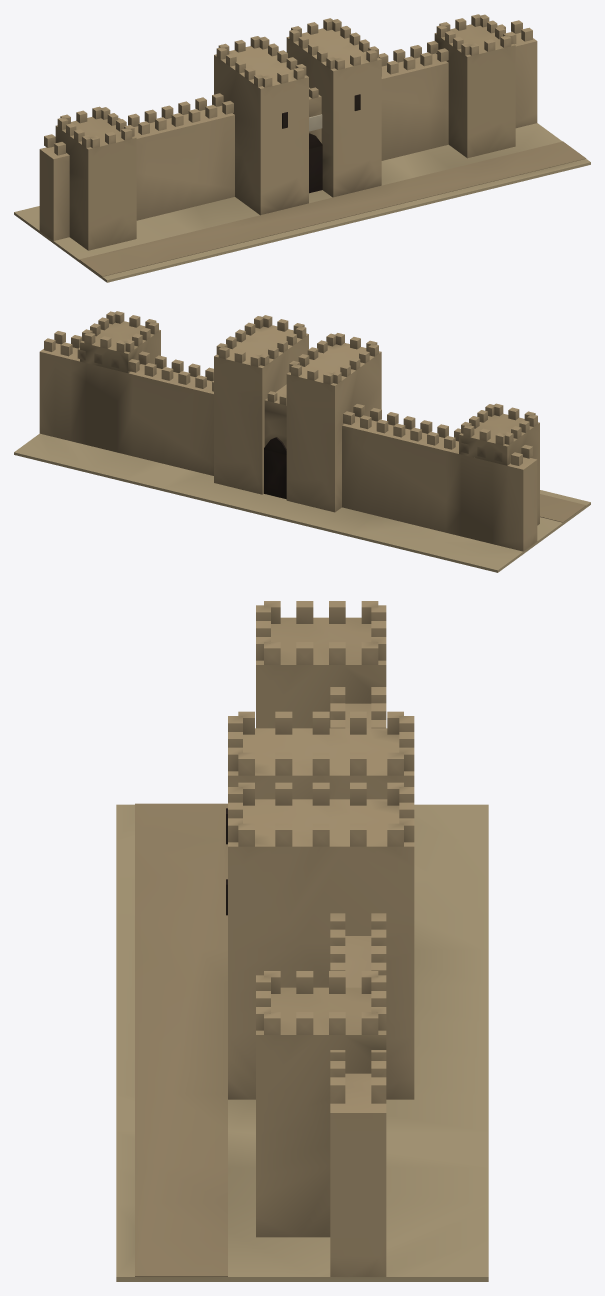
File: puerta-almodovar.glb
The picture shows the model from 3 angles, top to bottom: view 1: azimuth 30°, elevation 25°; view 2: azimuth 150°, elevation 25°; view 3: azimuth 270°, elevation 25°; orthographic projection. The views are drawn at different scales.
Visible parts, largest first — view 1: p0_wall, p1_towers; view 2: p0_wall, p1_towers; view 3: p0_wall, p1_towers.
Part boxes in pixels (x1,y1,x2,y2): p0_wall: [14, 20, 590, 282]; p1_towers: [55, 14, 515, 250]; p0_wall: [14, 331, 590, 572]; p1_towers: [80, 311, 539, 525]; p0_wall: [116, 687, 488, 1281]; p1_towers: [226, 601, 414, 1237].
Size of the model in its own units: 60 by 16.29 by 20.
